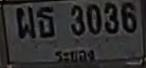0: (86, 3, 100, 34)
3: (70, 4, 84, 35), (104, 2, 118, 32)
6: (120, 1, 136, 32)
A24: (36, 6, 54, 37)
A28: (15, 6, 35, 38)
RYG: (51, 47, 98, 65)
